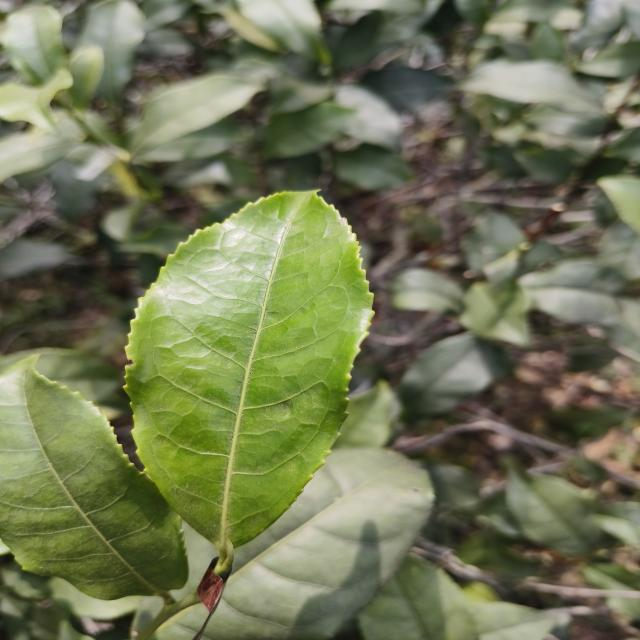Leaf: (125, 192, 373, 568), (0, 358, 188, 599), (201, 448, 434, 640), (130, 73, 261, 155), (359, 555, 478, 640), (398, 332, 509, 421), (505, 460, 601, 555), (327, 0, 443, 72), (518, 258, 624, 326), (461, 60, 597, 110), (80, 0, 145, 103), (0, 348, 120, 401), (236, 0, 330, 63), (0, 5, 65, 85), (264, 102, 355, 158), (459, 280, 530, 347), (138, 119, 244, 162), (334, 84, 401, 150), (333, 380, 398, 448), (0, 128, 80, 182), (0, 70, 72, 129), (362, 66, 451, 112), (334, 144, 412, 190), (171, 523, 217, 600), (469, 602, 555, 640), (392, 268, 462, 314), (0, 238, 71, 279), (598, 219, 640, 280), (597, 175, 640, 234), (578, 41, 640, 78), (69, 45, 104, 109), (152, 603, 208, 640), (595, 502, 640, 546)
